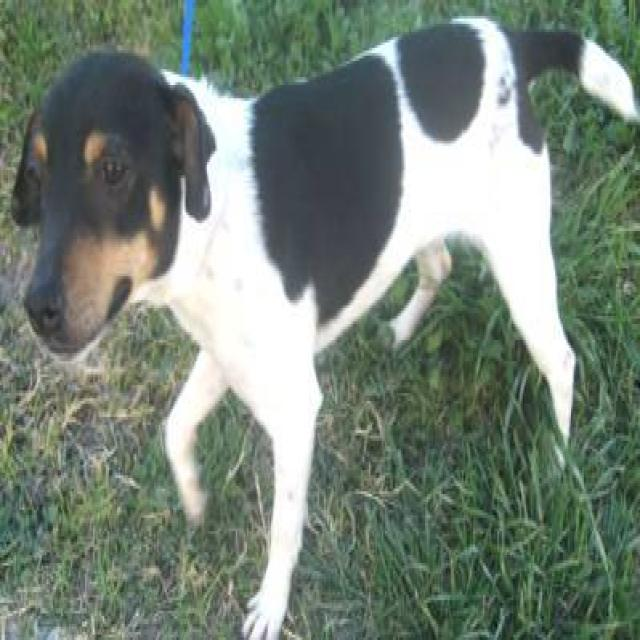dog: (9, 13, 638, 638)
